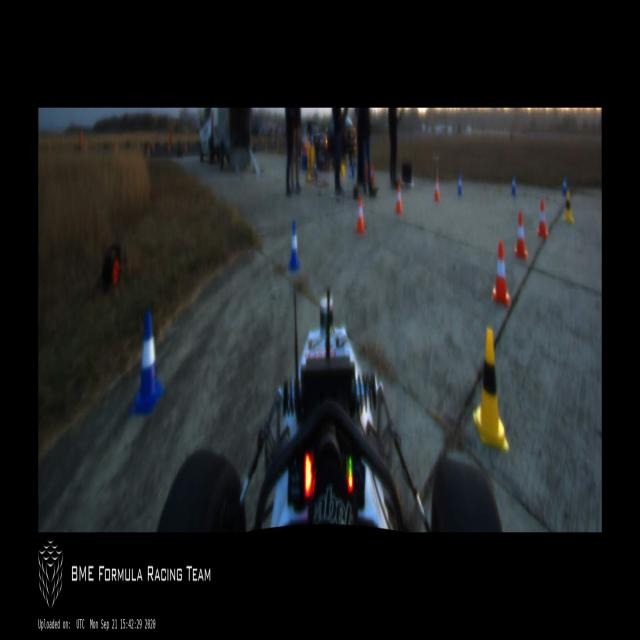blue_cone: (131, 310, 164, 415), (288, 221, 300, 270), (457, 171, 463, 195), (511, 175, 517, 196), (562, 175, 567, 196), (348, 165, 354, 178), (314, 158, 318, 174), (311, 134, 314, 146)
large_orange_cone: (366, 164, 374, 184)
orange_cone: (493, 238, 510, 302), (514, 211, 528, 260), (537, 200, 549, 240), (356, 197, 365, 234), (395, 183, 402, 214), (434, 173, 440, 201)
yellow_cone: (473, 331, 507, 451), (564, 191, 574, 224), (306, 163, 312, 182), (340, 164, 345, 176), (307, 134, 310, 146)
